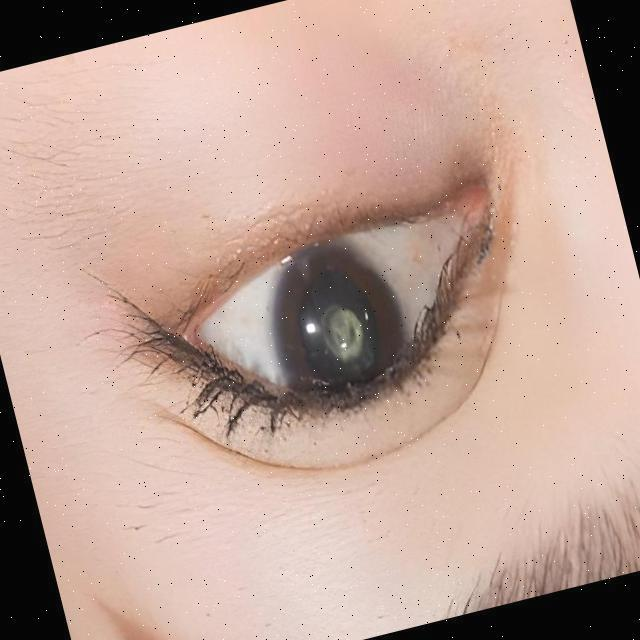Cataract: (262, 234, 418, 409)
